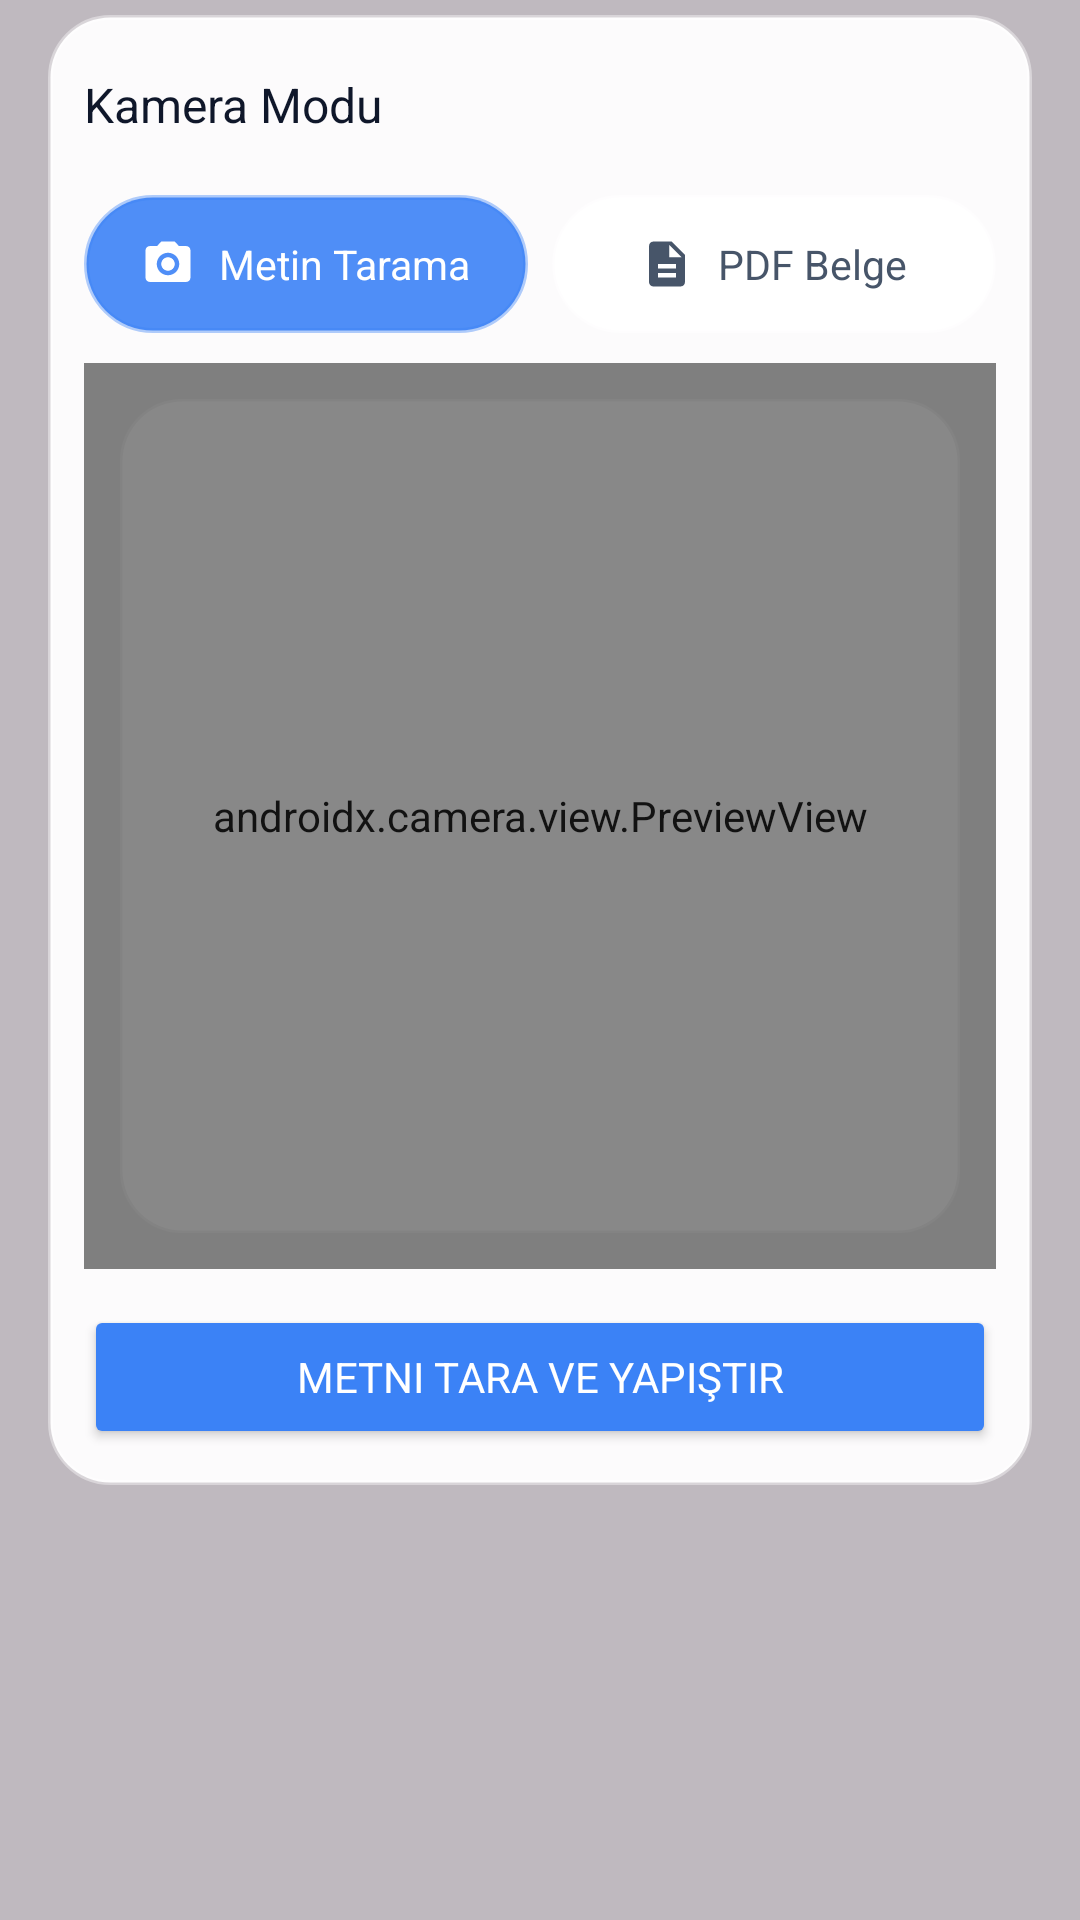

Icons on this 1080px x 1920px Android screen, each with its box as BBox(x1, y1, x2, y2):
document: BBox(649, 241, 685, 287)
